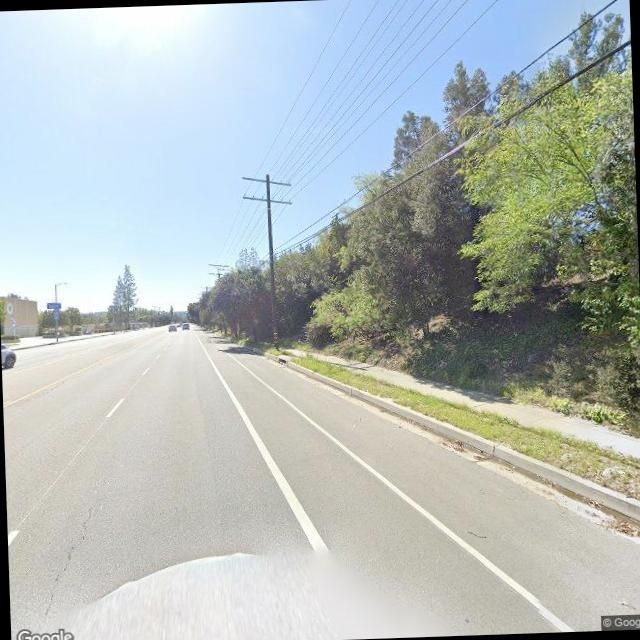pothole: (34, 497, 102, 619)
